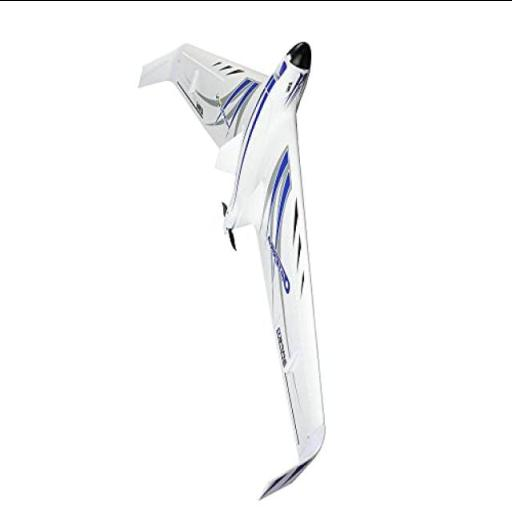uav: (132, 36, 362, 505)
